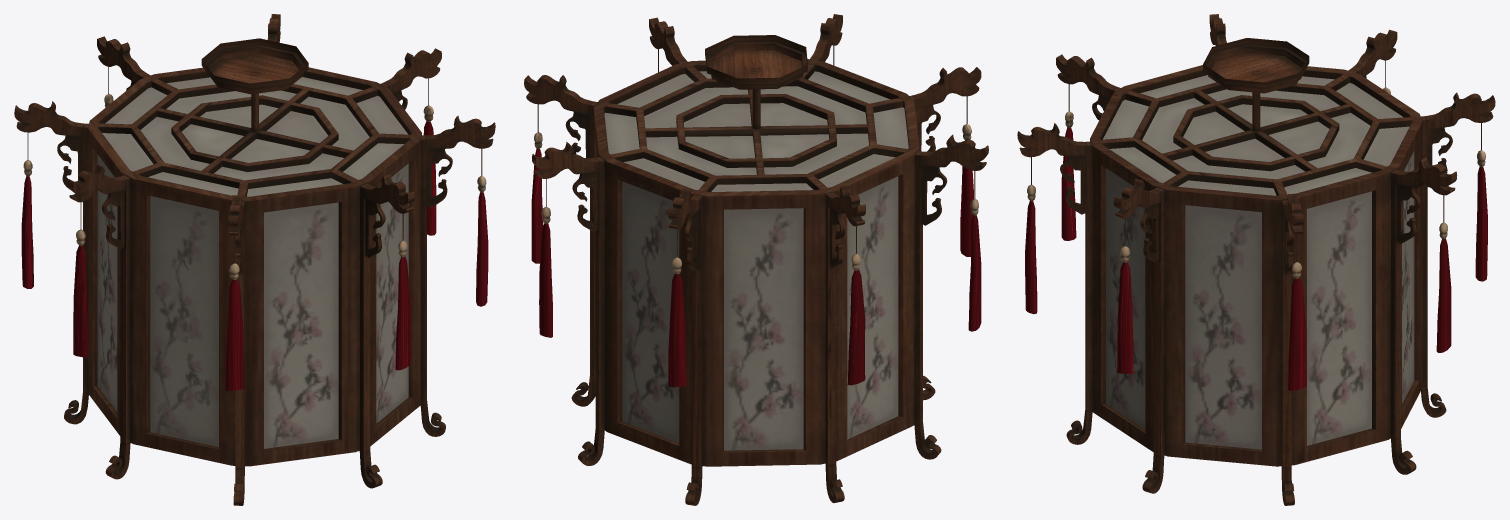
File: chinese_chandelier.obj
The picture shows the model from 3 angles, left to right: view 1: azimuth 30°, elevation 25°; view 2: azimuth 150°, elevation 25°; view 3: azimuth 270°, elevation 25°; orthographic projection.
Visible parts, largest first — view 1: obj1; view 2: obj1; view 3: obj1.
Boxes of the visible parts, left/top/right/bottom form: obj1: left=14, top=14, right=495, bottom=505; obj1: left=524, top=14, right=988, bottom=505; obj1: left=1017, top=14, right=1495, bottom=505.
Size of the model in its own units: 0.8784 by 0.7482 by 0.8787.
